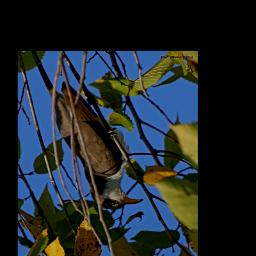Cuckoo: (54, 81, 166, 210)
